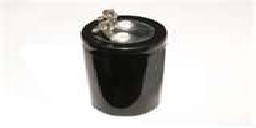Electrolytic-capacitor: (79, 7, 168, 118)
